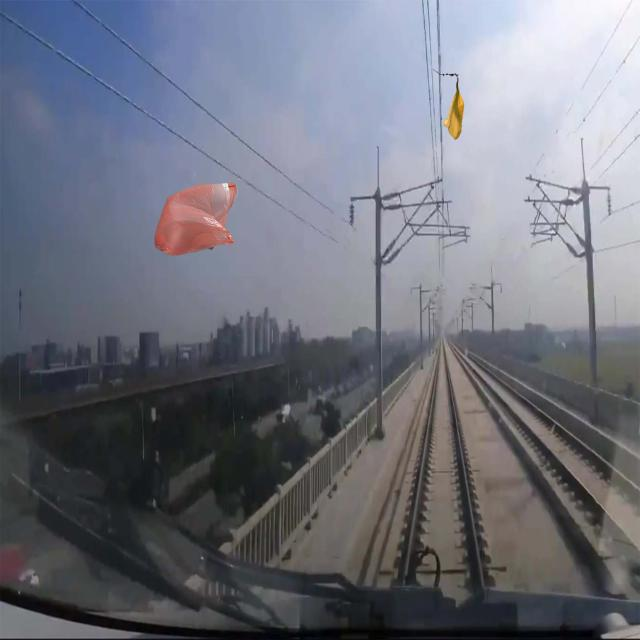plastic bag: (155, 182, 243, 254), (442, 65, 465, 145)
